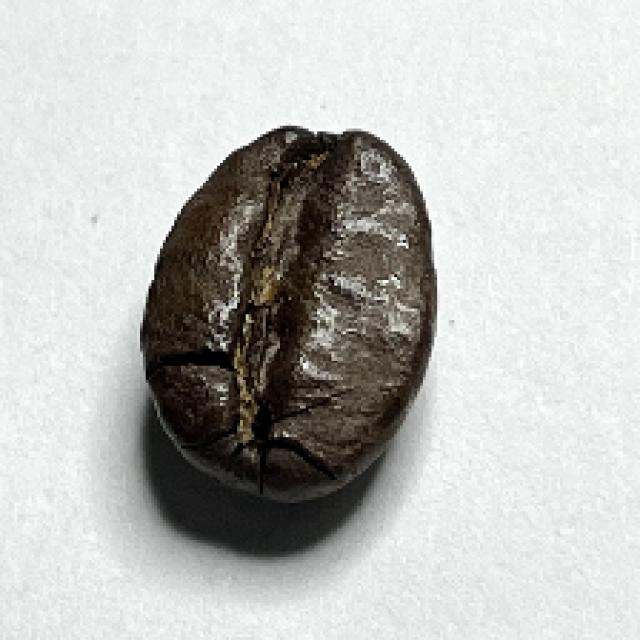bean: (138, 124, 442, 505)
